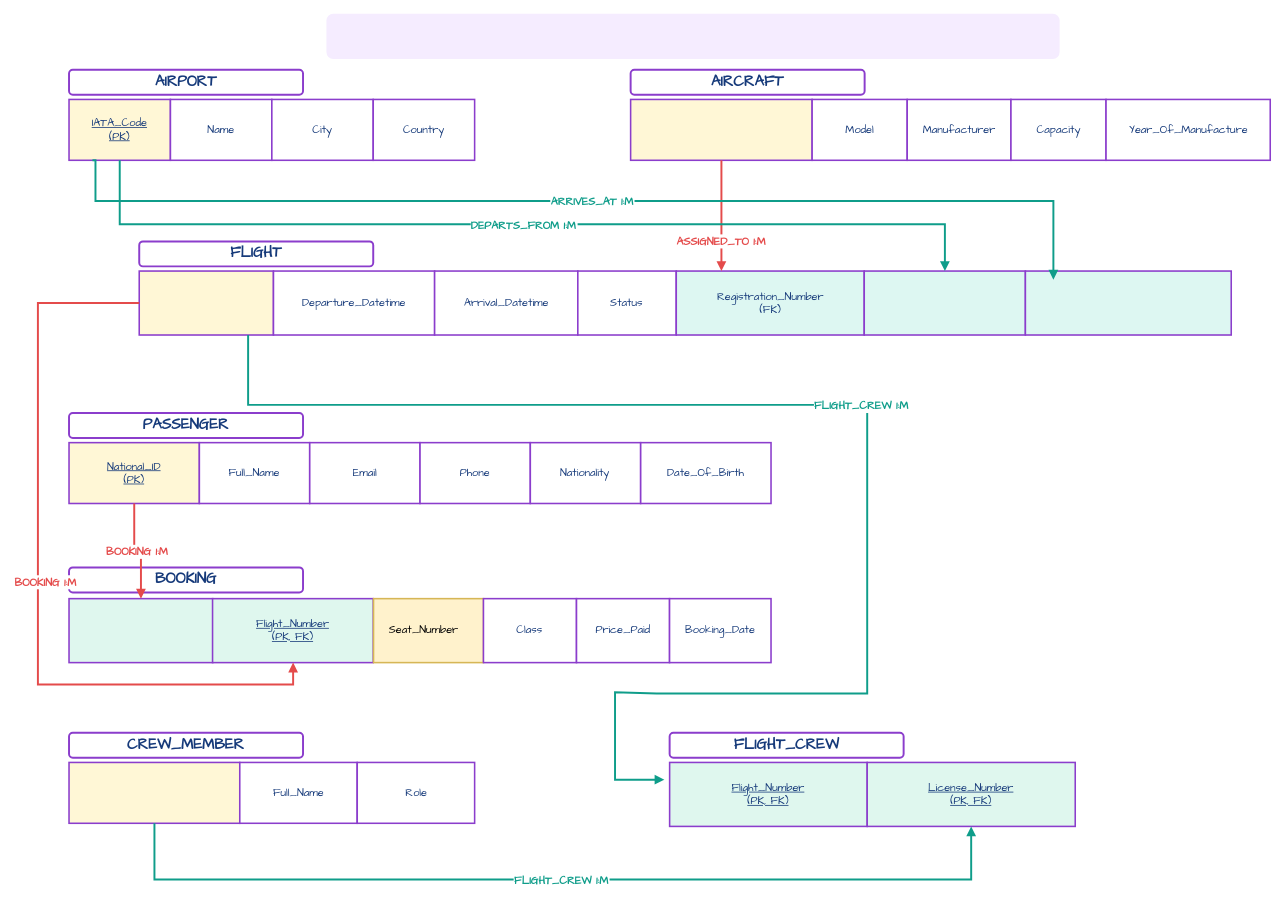
Some shapes in this 1284 by 902 pixel diagram are drawn without their labels. Here are the shapes that lost their labels. From the top down, the centre of each, then its label:
(x=692, y=35): SkyTrack Airline System – Step 2 Relational Mapping
(x=721, y=129): Registration_Number (PK)
(x=206, y=302): Flight_Number (PK)
(x=944, y=302): Origin_IATA_Code (FK)
(x=1128, y=302): Destination_IATA_Code (FK)
(x=140, y=630): National_ID (PK, FK)
(x=154, y=792): License_Number (PK)
